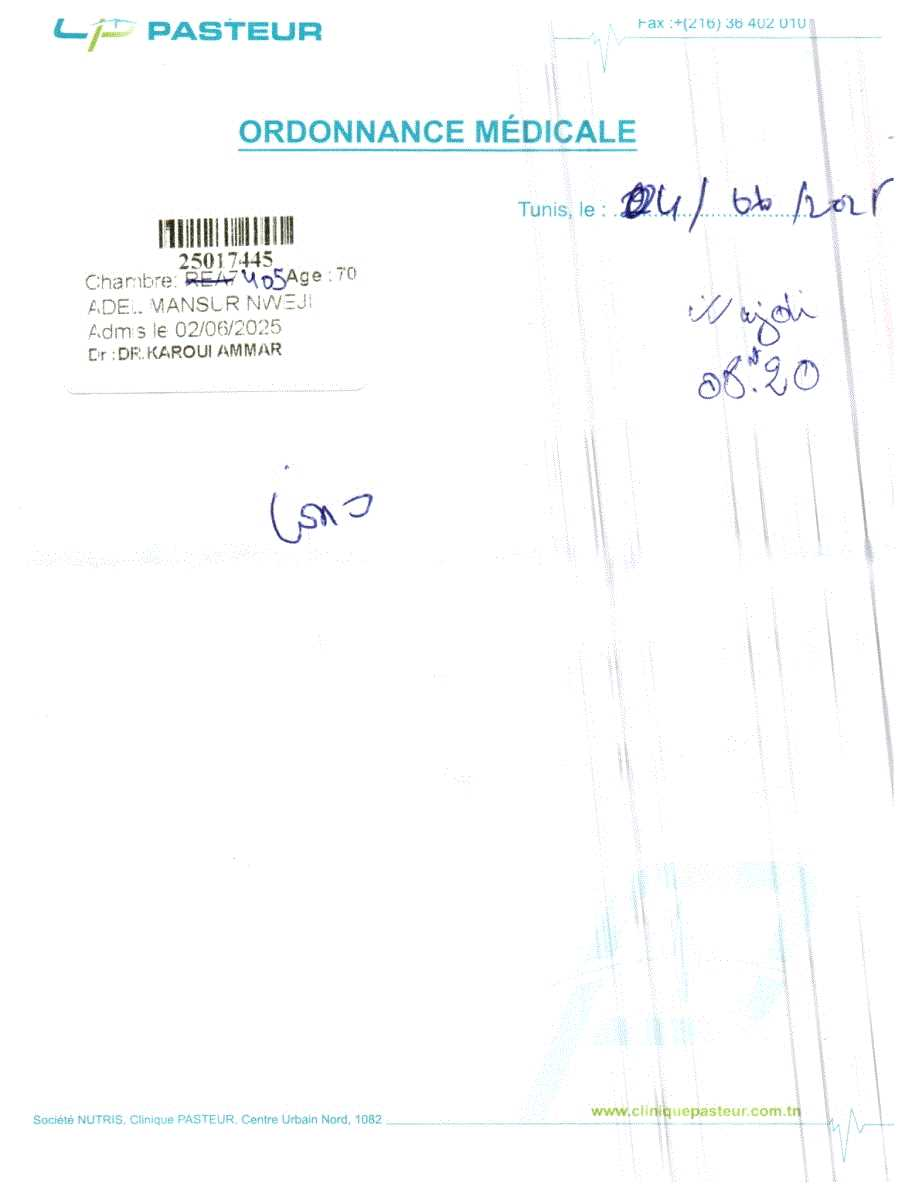zone_analyses: (261, 464, 510, 565)
zone_date: (607, 162, 905, 227), (172, 315, 293, 338)
zone_patient: (88, 293, 321, 315)
zone_prescripteur: (25, 1104, 864, 1153), (85, 343, 286, 366)
